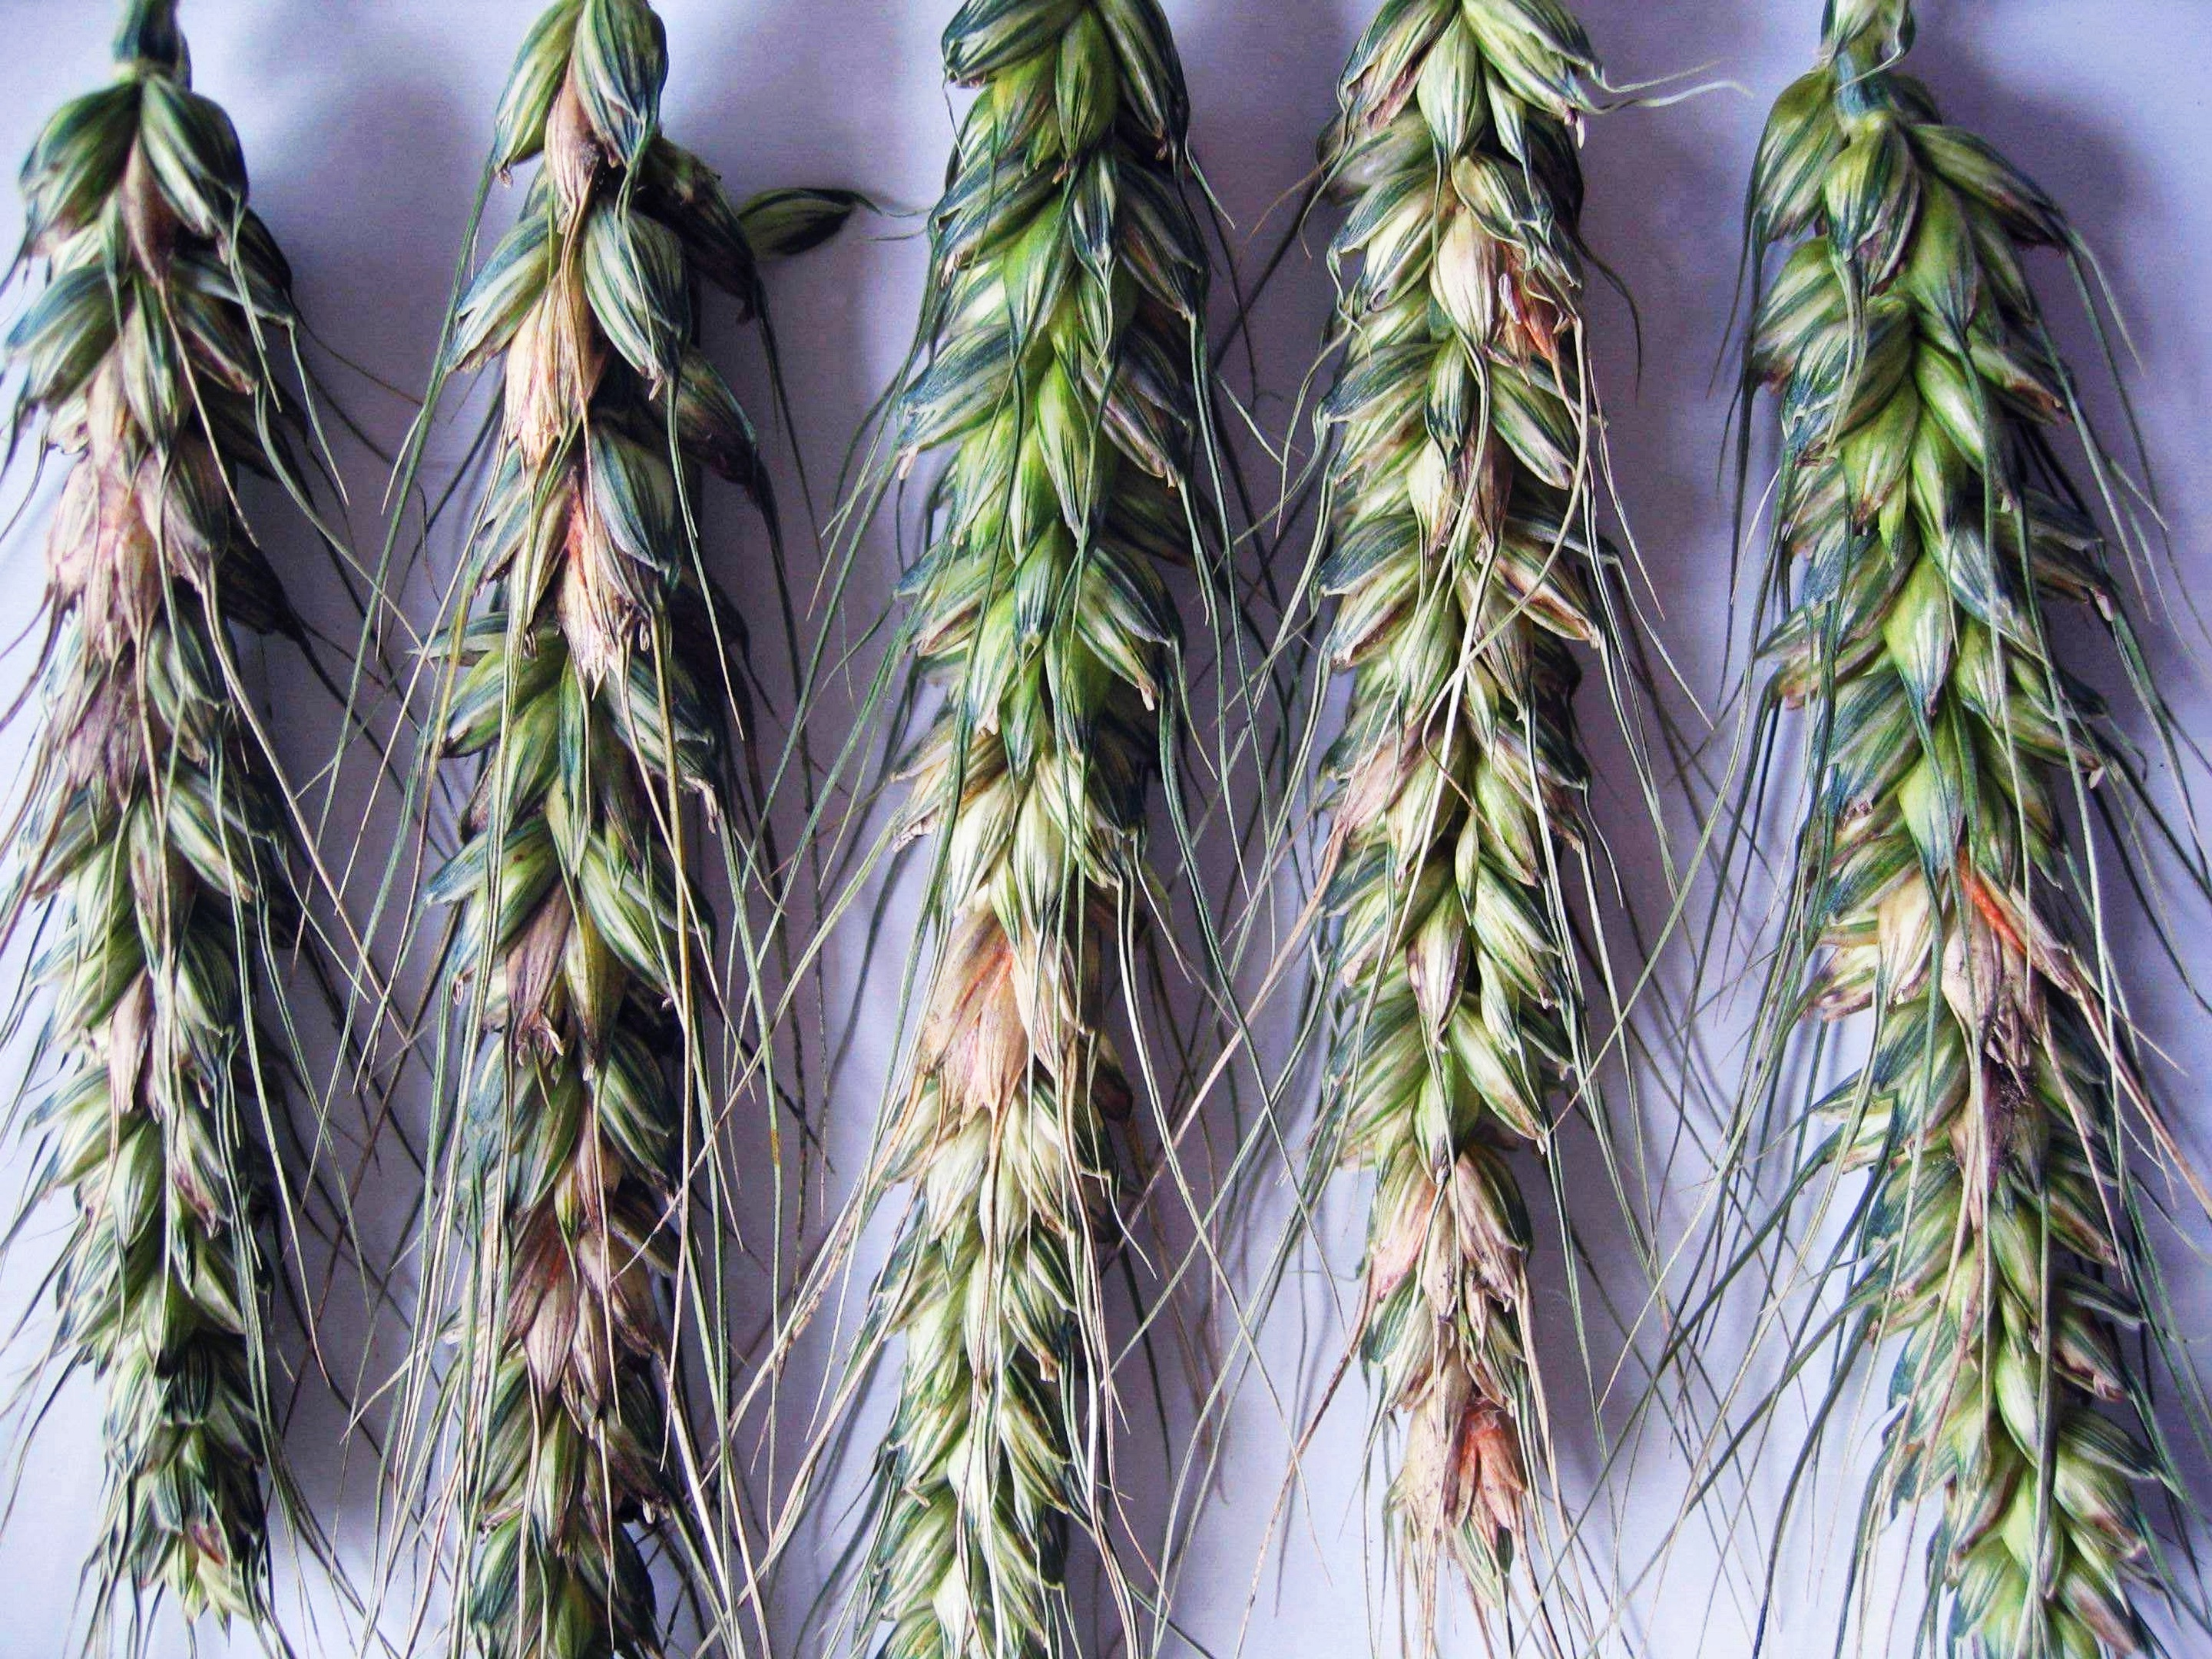Wheat scab: (1271, 28, 1677, 1588), (345, 59, 688, 1601), (859, 14, 1176, 1650)
